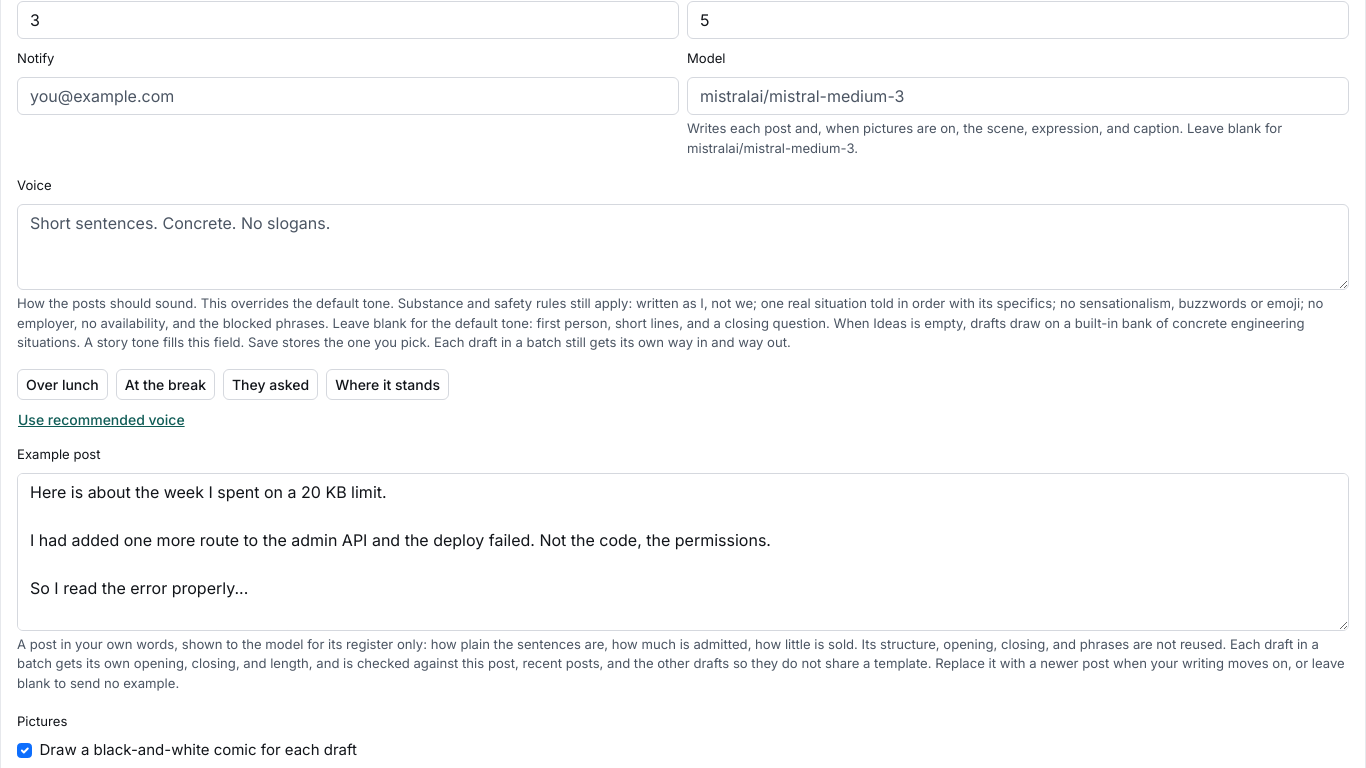
Test: LinkedIn story tones › fills the Voice field from the tone button
The width and height of the screenshot is (1366, 768).
(page scrolled)
Expected: the text box labelled "Voice" is empty, [17,204,1349,290]
Step 1. Click the button "At the break" → (165, 384), box [116,369,215,400]
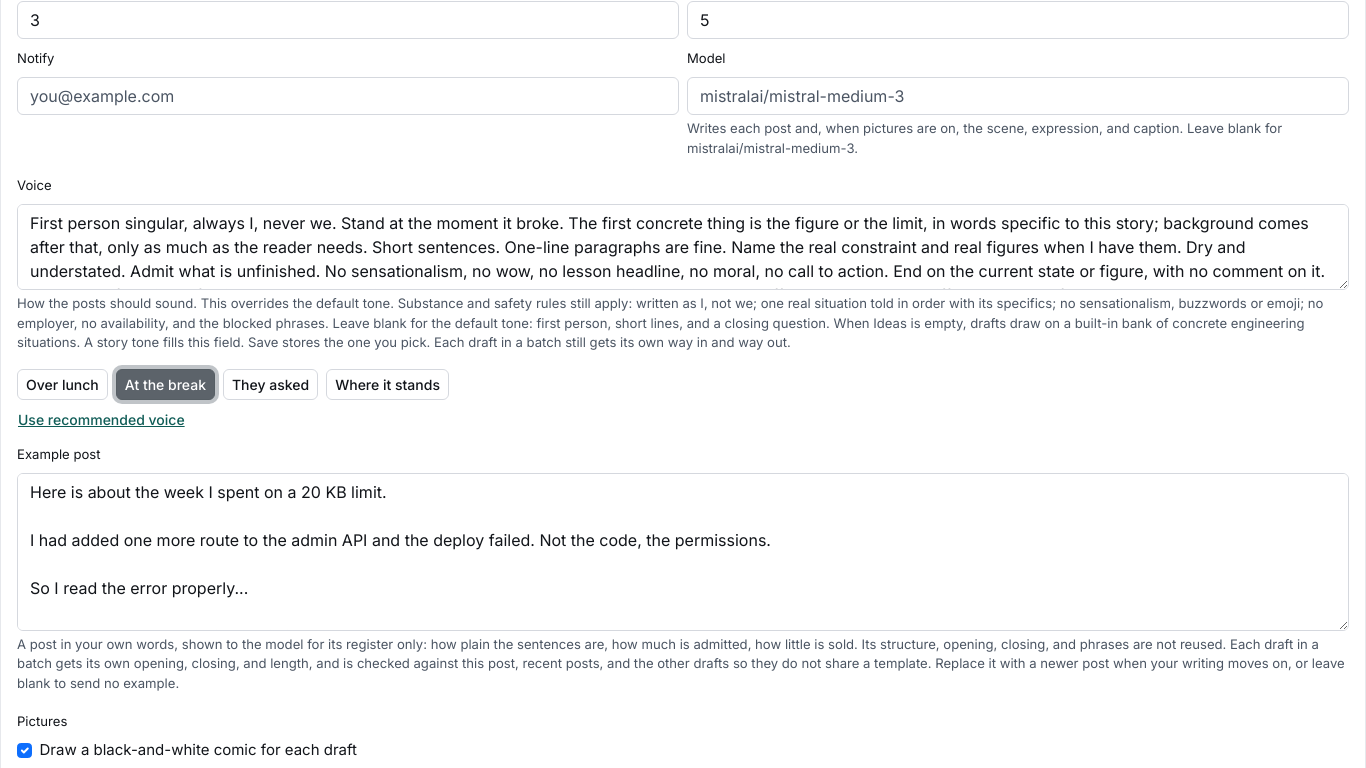
Expected: the text box labelled "Voice" holds "First person singular, always I, never we. Stand at the moment it broke. The first concrete thing is the figure or the limit, in words specific to this story; b", [17,204,1349,290]
